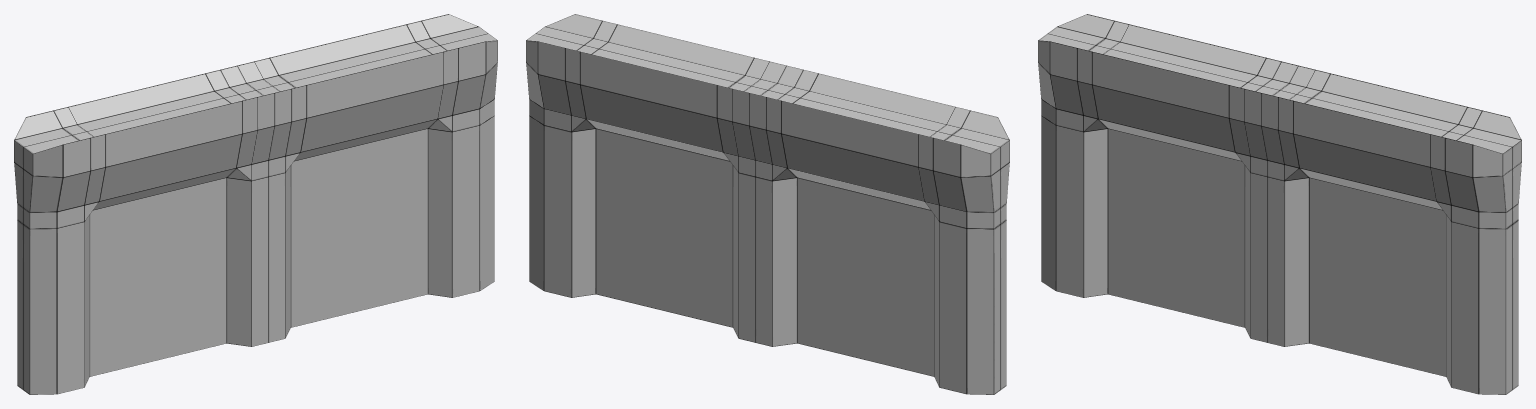
The model's file is wall.obj.
3 renders of one model, left to right at view 1: azimuth 30°, elevation 25°; view 2: azimuth 150°, elevation 25°; view 3: azimuth 330°, elevation 25°, orthographic.
Parts seen in each view (by area): view 1: Cube; view 2: Cube; view 3: Cube.
Boxes of the visible parts, x1,y1,x2,y2 form: Cube: (14,14,497,394); Cube: (526,14,1009,394); Cube: (1038,14,1521,394).
Bounding box in the file's own units: 44 × 23 × 6.11.
